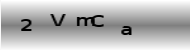2: (18, 18, 33, 32)
C: (91, 14, 105, 27)
V: (48, 12, 66, 27)
a: (120, 25, 134, 36)
m: (75, 16, 94, 27)
